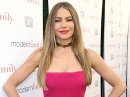female: (50, 5, 82, 45)
